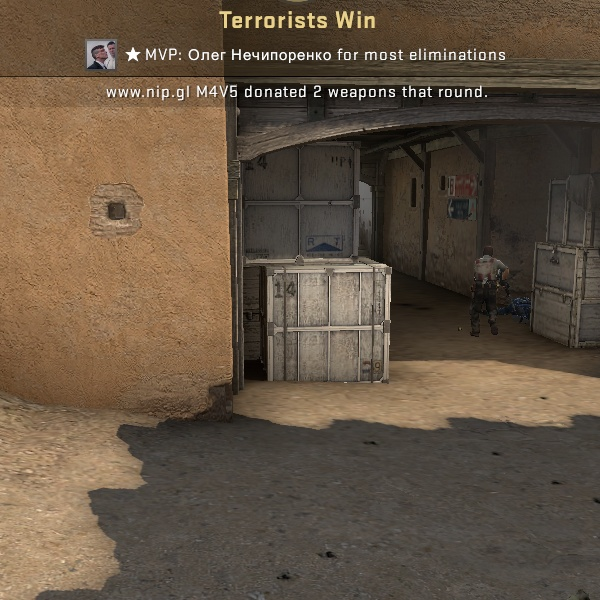t_body: (470, 246, 509, 337)
t_head: (482, 246, 494, 261)
